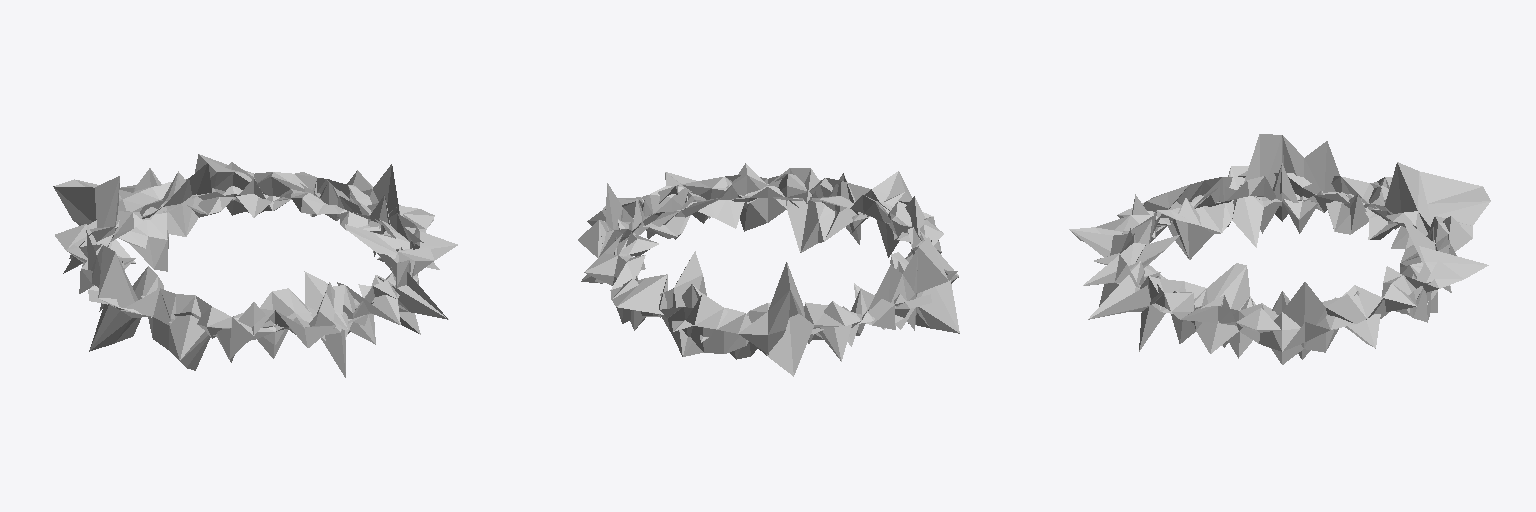
File: cockpit.obj
3 renders of one model, left to right at view 1: azimuth 30°, elevation 25°; view 2: azimuth 150°, elevation 25°; view 3: azimuth 270°, elevation 25°, orthographic.
Visible parts, largest first — view 1: Torus.003; view 2: Torus.003; view 3: Torus.003.
Part boxes in pixels (x1,y1,x2,y2): Torus.003: (53, 154, 457, 377); Torus.003: (578, 163, 959, 376); Torus.003: (1069, 134, 1490, 364).
Bounding box in the file's own units: 2.73 × 0.8208 × 2.78.